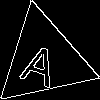A: (18, 34, 64, 89)
